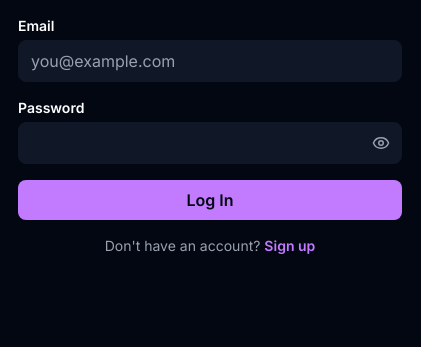
Test: LoginForm › signs in with Firebase and shows a success message
The image size is (421, 347).
Step 1. Type "fox@heist.io" into the field labelled "Email" → (210, 61), box [18,40,402,82]
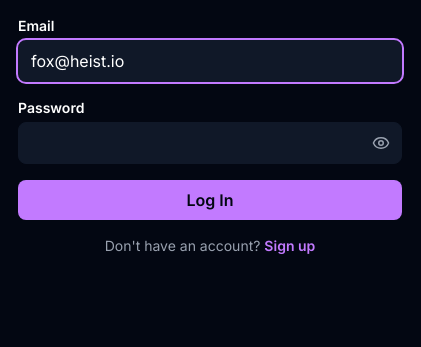
Step 2. Type "secret123" into the password field labelled "Password" → (210, 143), box [18,122,402,164]
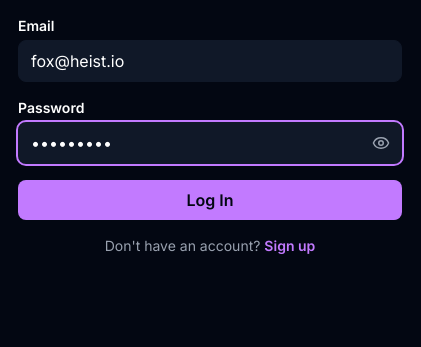
Step 3. Click the button "Log In" → (210, 200), box [18,180,402,220]
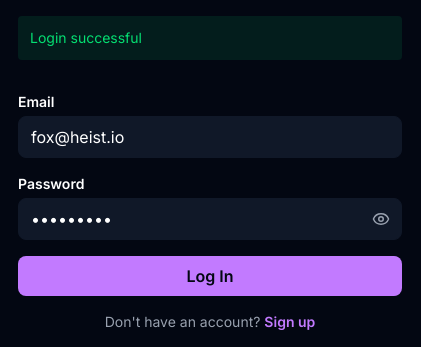
Expected: the message reads "Login successful", [30,29,142,46]
